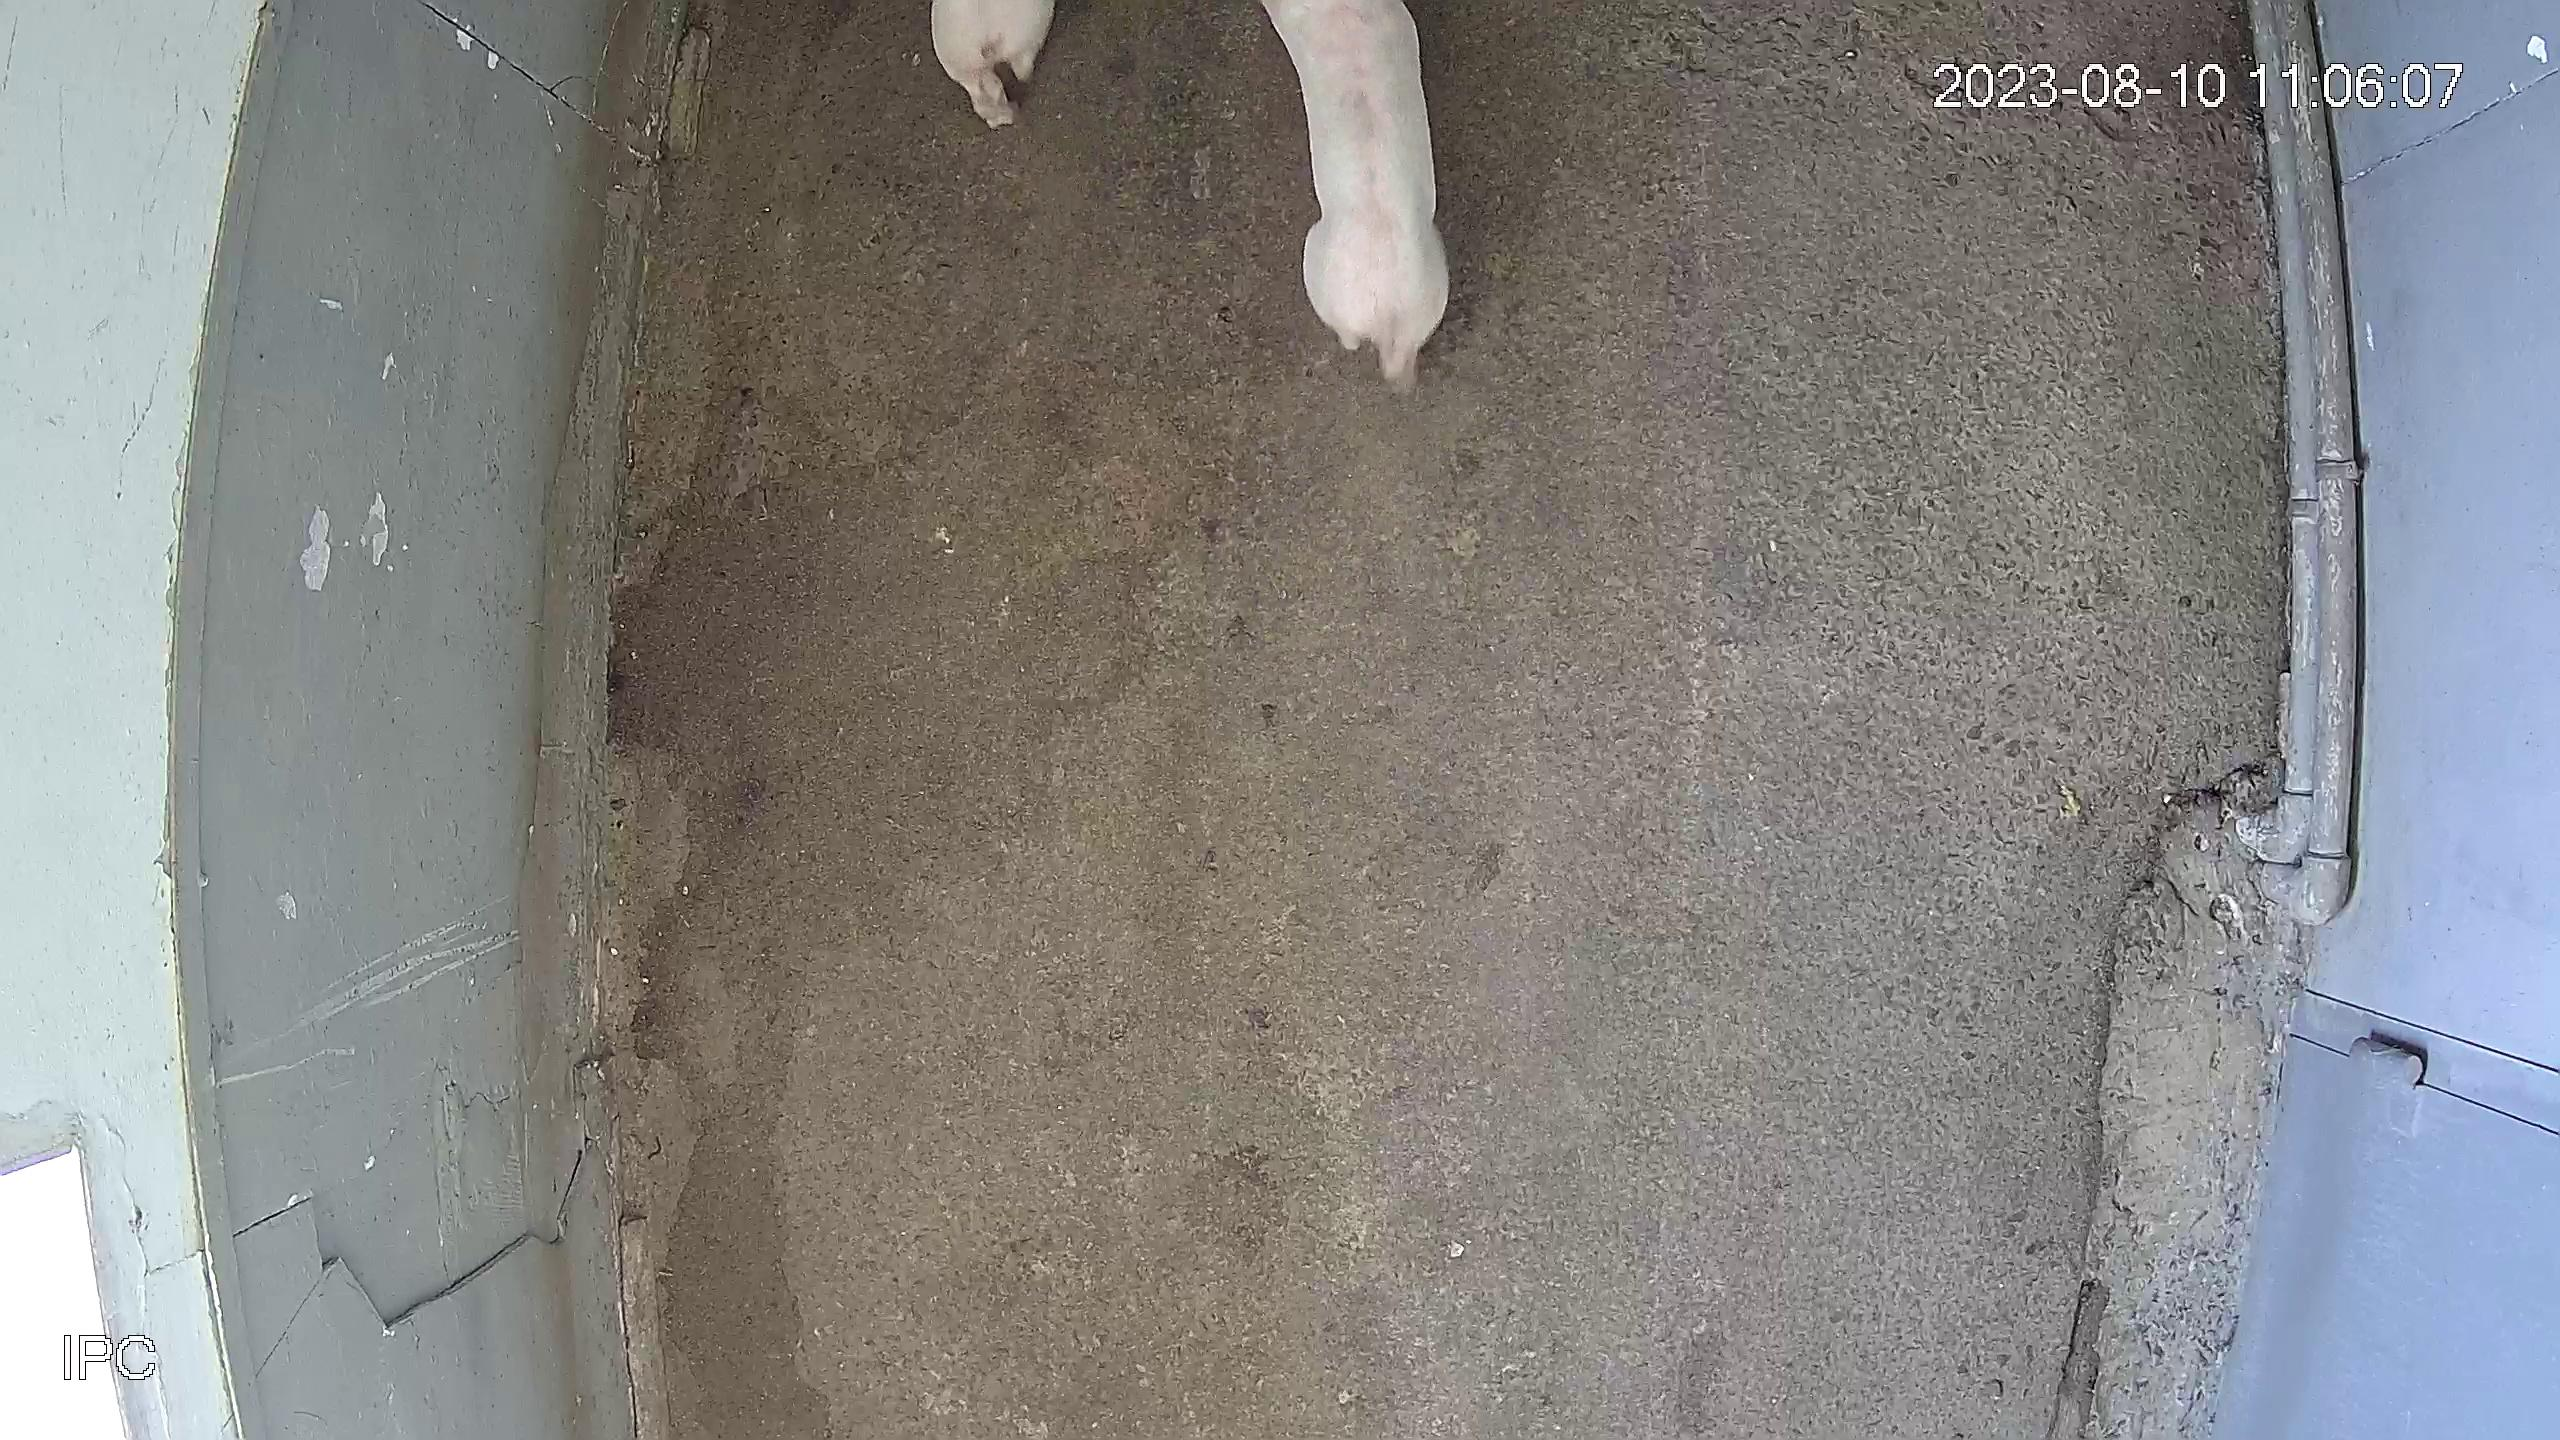Pig: (1264, 0, 1451, 389), (932, 0, 1053, 123)
